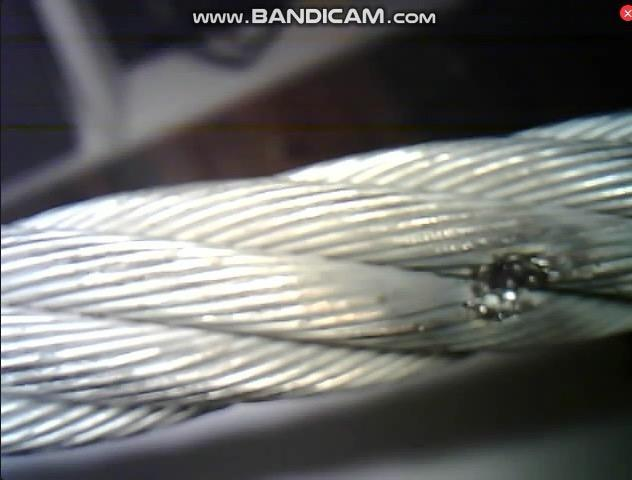thunderbolt: (420, 210, 606, 343)
